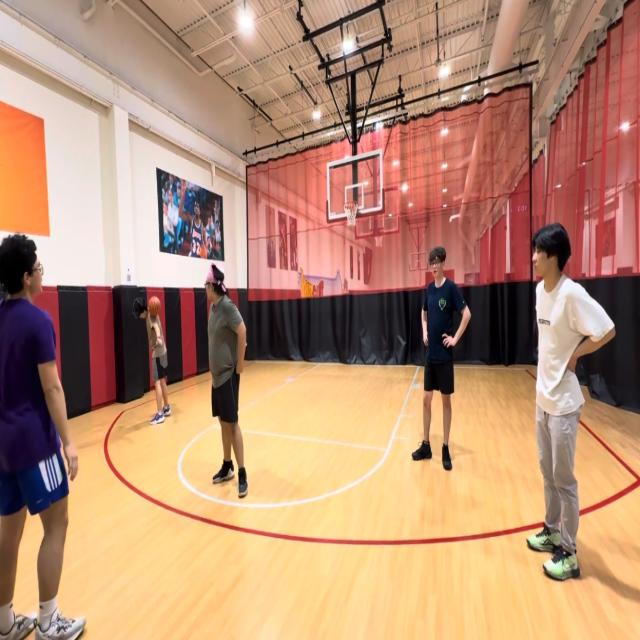Basketball: (148, 296, 161, 316)
Basketball Rim: (344, 200, 358, 226)
Player: (0, 230, 86, 640), (527, 221, 616, 581), (412, 246, 471, 470), (205, 261, 248, 498), (132, 294, 172, 426)
